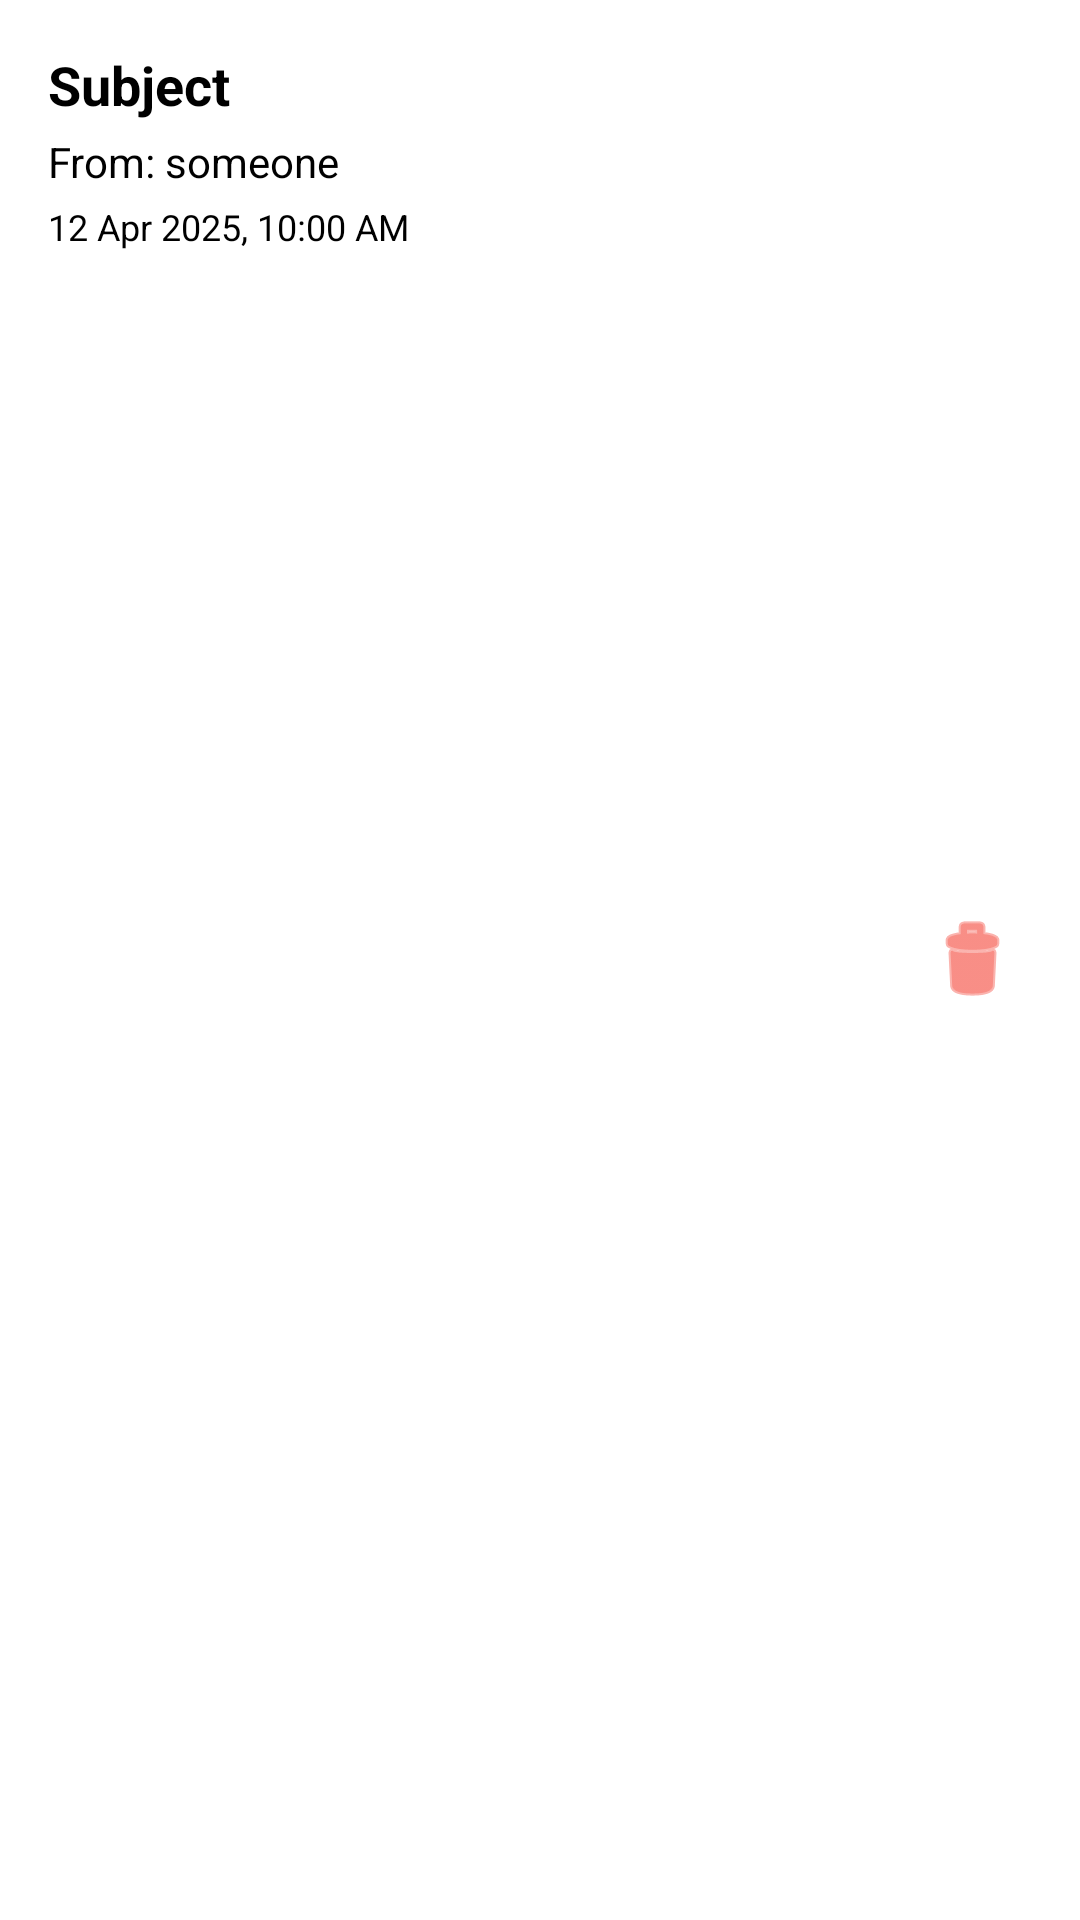

Where icons sit on this 1080 × 1920 app screen, as [x1, y1, x2, y2]:
Delete: [945, 921, 1000, 996]
